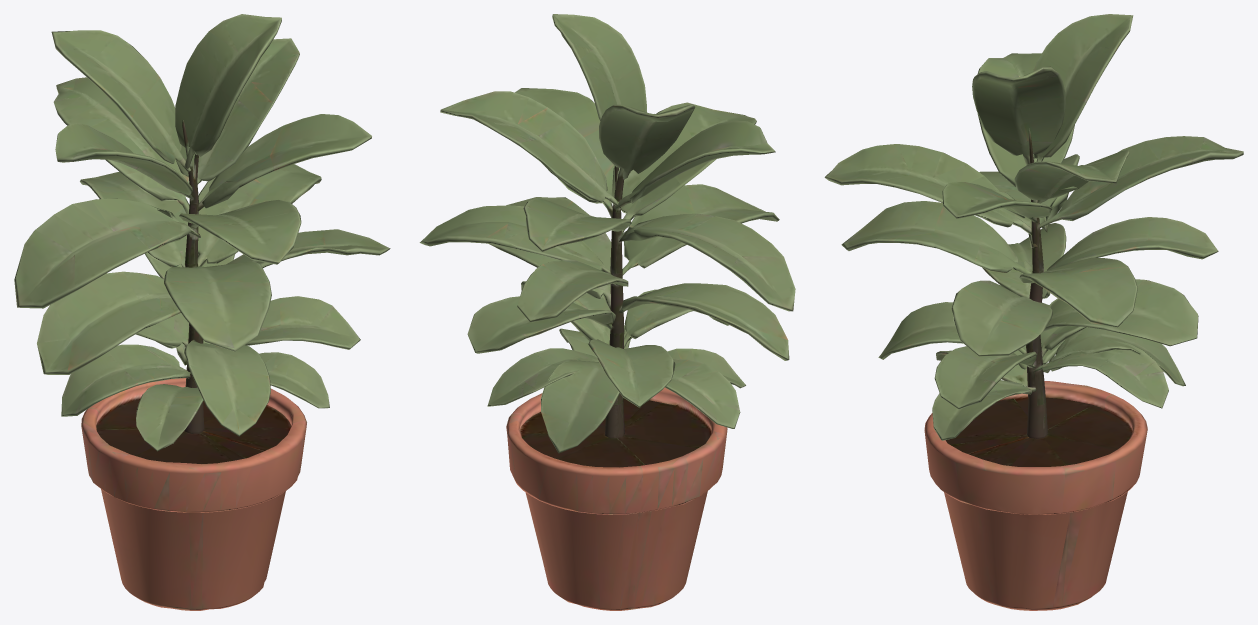
File: plant-pot.glb
The picture shows the model from 3 angles, left to right: view 1: azimuth 30°, elevation 25°; view 2: azimuth 150°, elevation 25°; view 3: azimuth 270°, elevation 25°; orthographic projection. The views are drawn at different scales.
Size of the model in its own units: 0.6202 by 0.9521 by 0.6665.
1 material, 1 textured.
